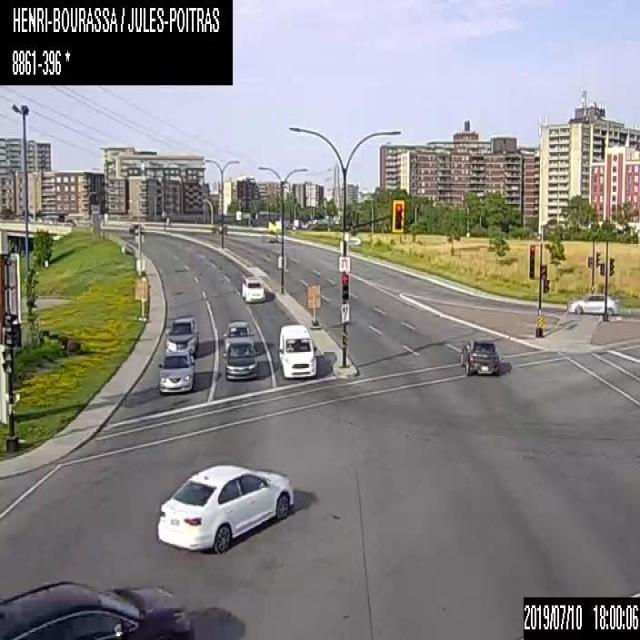vehicle: (155, 463, 293, 552), (0, 578, 193, 638), (278, 322, 316, 378), (458, 337, 498, 375), (157, 351, 195, 391), (164, 314, 198, 354), (222, 342, 257, 380), (567, 290, 614, 314), (222, 318, 254, 349), (241, 274, 264, 302), (129, 223, 145, 233)
